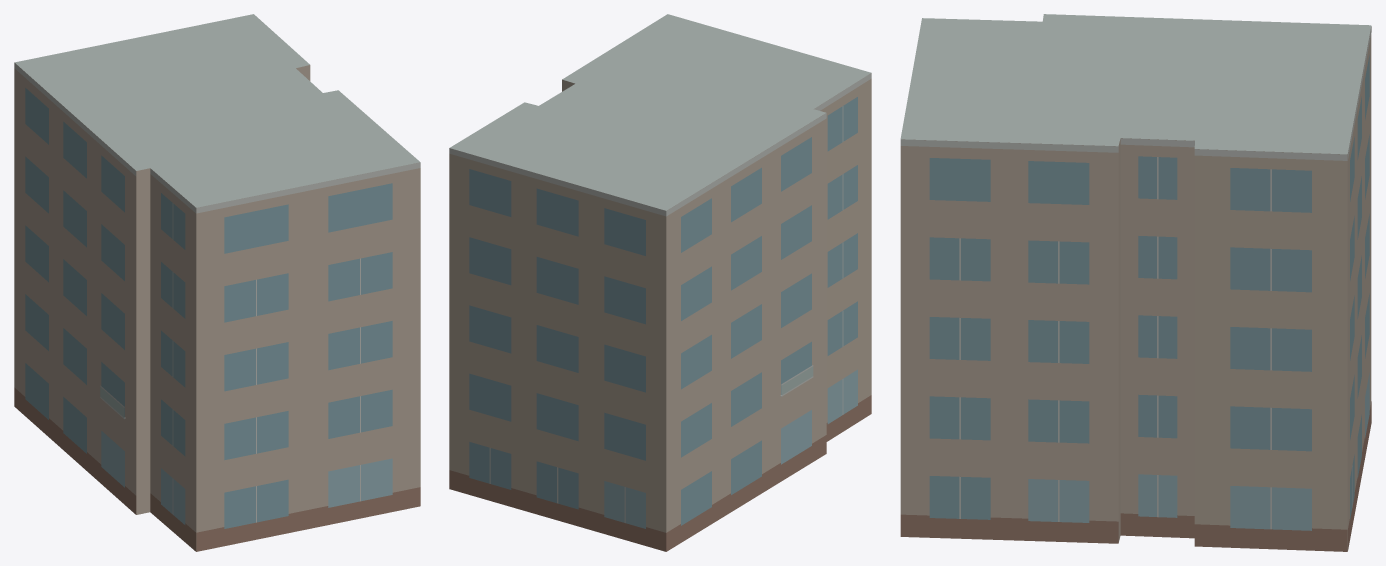
Rendered from survey-upis-32878364.glb.
3 renders of one model, left to right at view 1: azimuth 30°, elevation 25°; view 2: azimuth 150°, elevation 25°; view 3: azimuth 270°, elevation 25°, orthographic. The views are drawn at different scales.
Parts seen in each view (by area): view 1: survey-upis-32878364.tmp; view 2: survey-upis-32878364.tmp; view 3: survey-upis-32878364.tmp.
Boxes of the visible parts, left/top/right/bottom form: survey-upis-32878364.tmp: left=14, top=14, right=420, bottom=551; survey-upis-32878364.tmp: left=449, top=14, right=871, bottom=551; survey-upis-32878364.tmp: left=900, top=14, right=1371, bottom=551.
Size of the model in its own units: 11.14 by 14.7 by 15.8.
